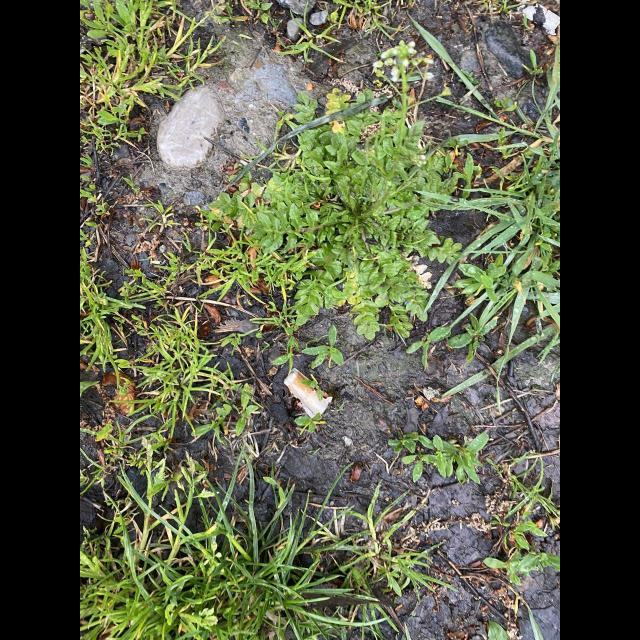cigarette: (283, 367, 333, 419)
